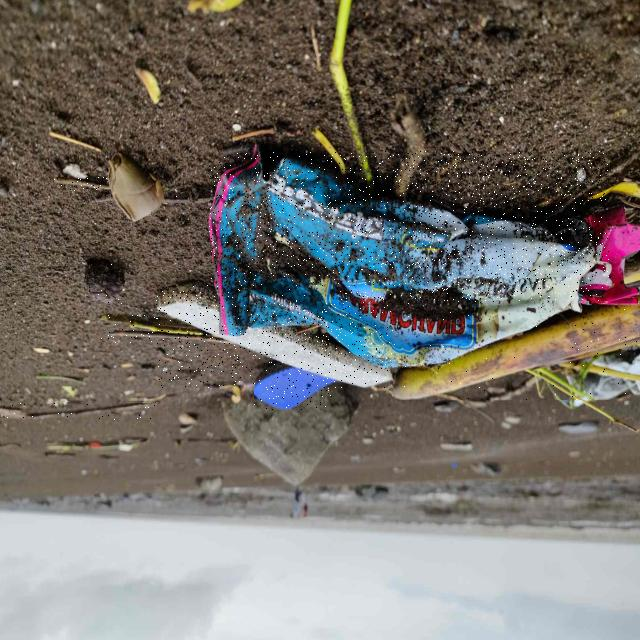biowaste: (392, 302, 640, 399), (101, 315, 226, 343), (6, 402, 156, 419), (85, 260, 123, 304), (54, 177, 108, 191), (165, 196, 210, 202), (96, 195, 110, 201)
other: (254, 364, 334, 409)
plastic: (210, 151, 609, 368)
styrofoam: (156, 283, 392, 387)
